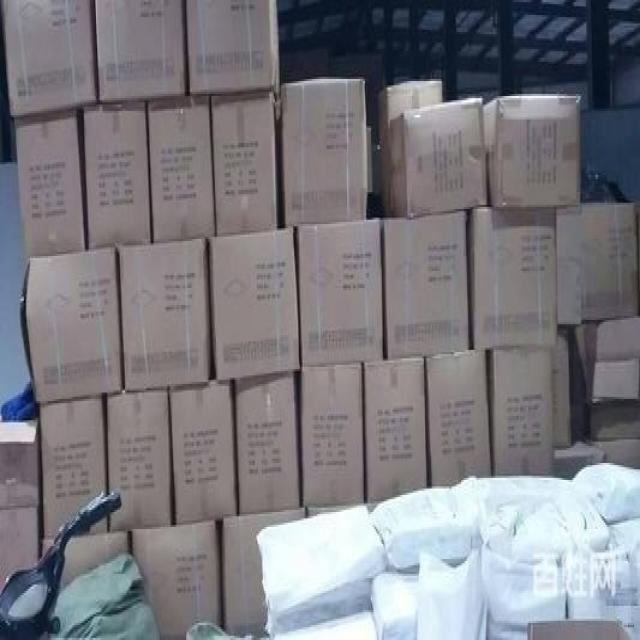box: (20, 247, 123, 405), (207, 228, 299, 380), (118, 239, 209, 391), (277, 78, 367, 228), (380, 209, 470, 357), (468, 199, 556, 349), (296, 221, 383, 366), (391, 99, 487, 219), (480, 95, 582, 207), (12, 109, 87, 259), (130, 517, 222, 638), (0, 2, 98, 115), (221, 506, 305, 637), (82, 98, 152, 249), (209, 89, 279, 238), (169, 375, 239, 524), (233, 365, 301, 512), (184, 4, 280, 108), (146, 95, 216, 237), (105, 387, 172, 532), (364, 354, 428, 502), (298, 364, 366, 503), (425, 351, 494, 487), (39, 397, 105, 539), (93, 0, 187, 96), (377, 81, 444, 215), (488, 348, 553, 477), (583, 203, 638, 317), (575, 309, 638, 404), (58, 527, 130, 594), (0, 501, 42, 594), (0, 418, 42, 507), (557, 207, 582, 326), (554, 436, 606, 483), (569, 326, 590, 439), (552, 326, 571, 447), (590, 401, 638, 441), (595, 436, 638, 470), (303, 503, 367, 523), (41, 527, 59, 562), (366, 126, 373, 193), (88, 516, 110, 532)
